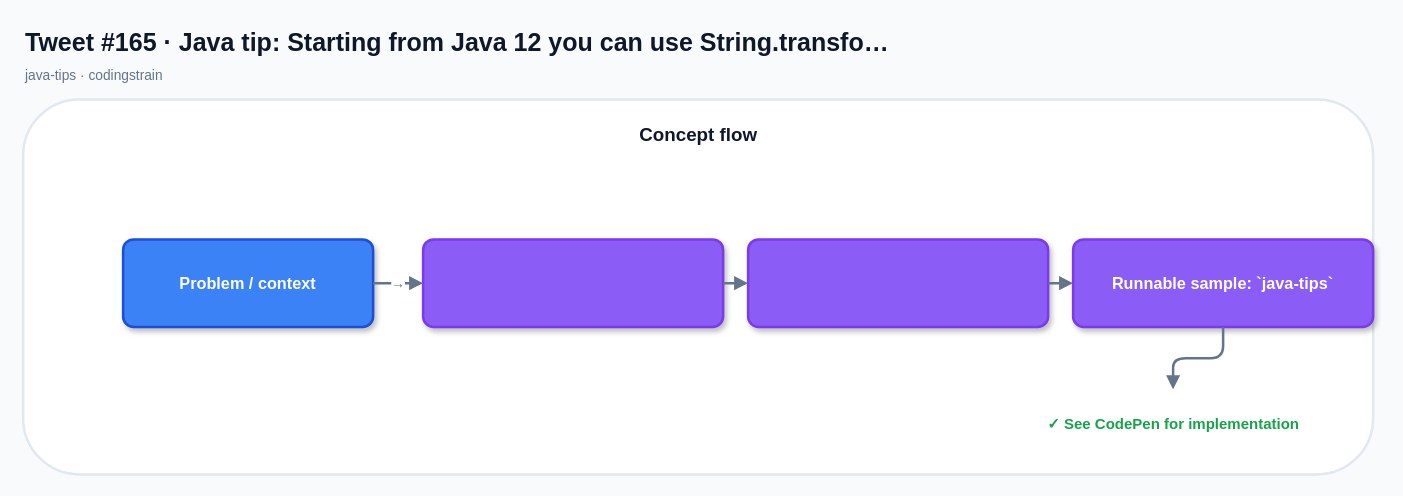
This 1403x496 diagram has some shape labels left out. Each missing label, with the centre of its shape:
#Java #JavaDev: point (898, 284)
💡 Java tip: Starting from Java 12 you can use String.transform(Functio: point (573, 284)
